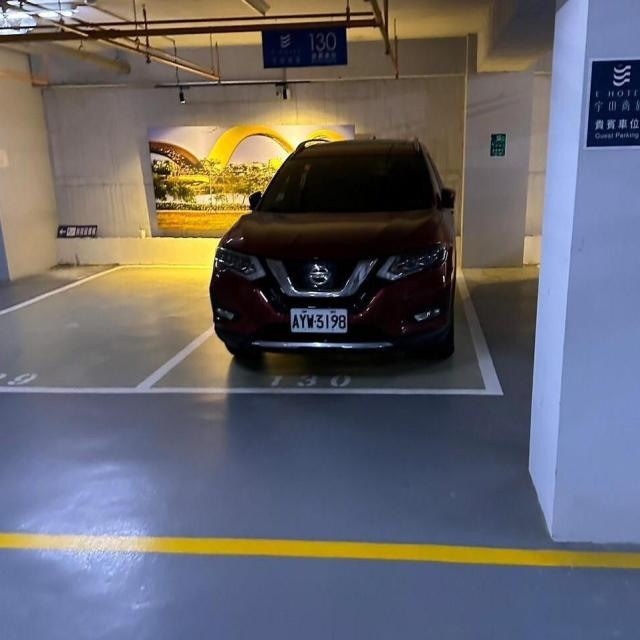W: (286, 300, 352, 338)
